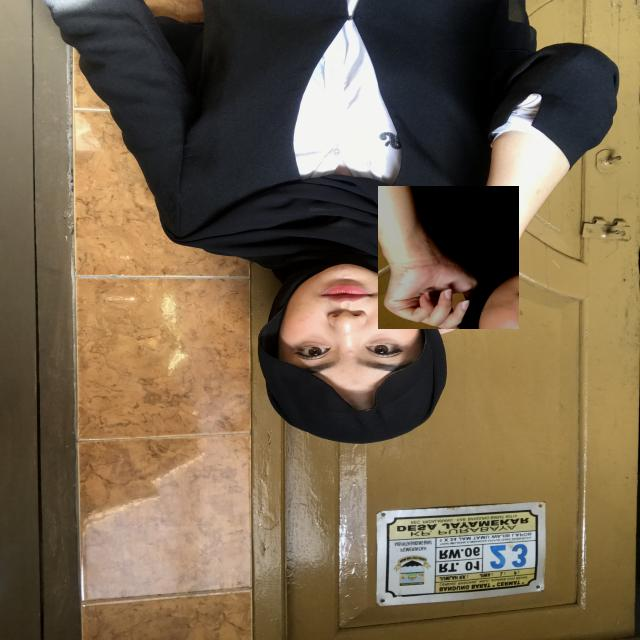ibu: (378, 186, 519, 329)
